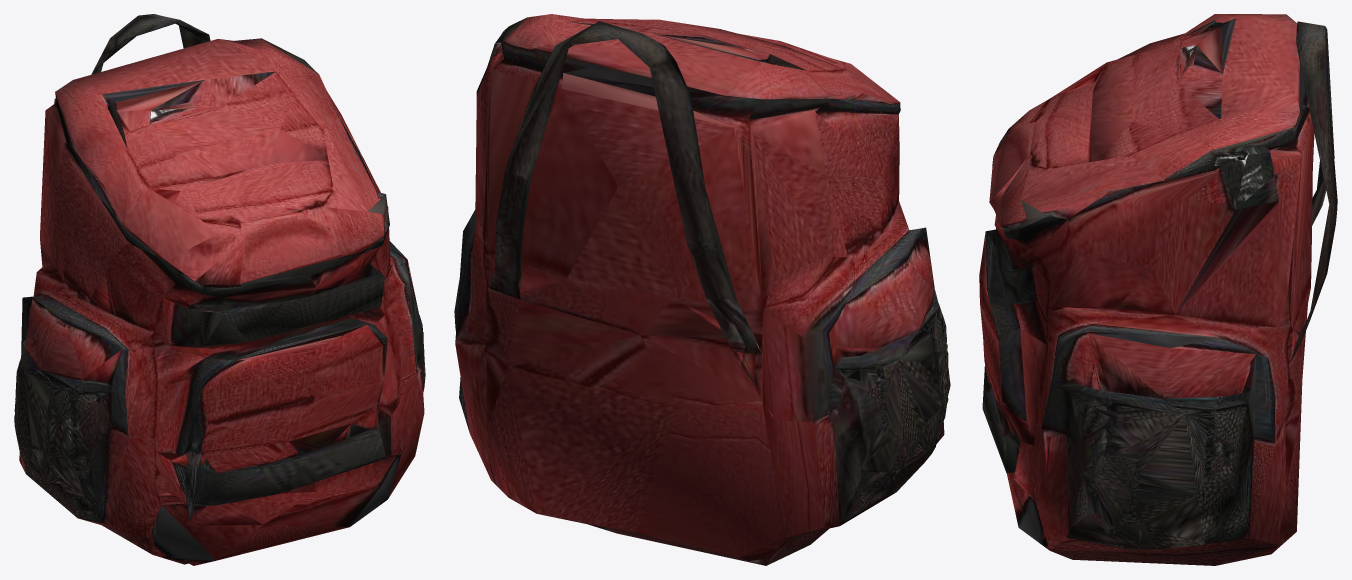
The model's file is mochila_esportiva_vermelha.glb.
The picture shows the model from 3 angles, left to right: view 1: azimuth 30°, elevation 25°; view 2: azimuth 150°, elevation 25°; view 3: azimuth 270°, elevation 25°; orthographic projection. The views are drawn at different scales.
Visible parts, largest first — view 1: Prop_mochila_esportiva; view 2: Prop_mochila_esportiva; view 3: Prop_mochila_esportiva.
Boxes of the visible parts, x1=… form: Prop_mochila_esportiva: x1=14, y1=14, x2=425, y2=565; Prop_mochila_esportiva: x1=454, y1=14, x2=950, y2=565; Prop_mochila_esportiva: x1=979, y1=14, x2=1337, y2=565.
Bounding box in the file's own units: 0.4268 × 0.48 × 0.3262.
1 material, 1 textured.
